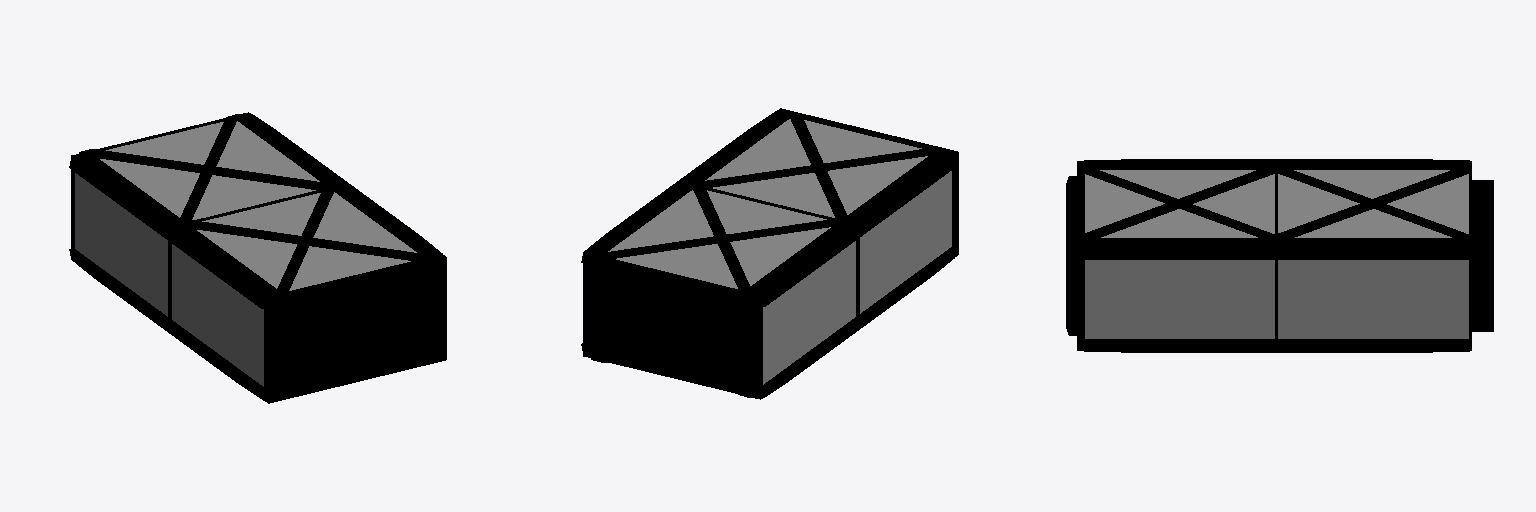
File: skyscraper_windowE_07.obj
3 views of the same model, side by side, from view 1: azimuth 30°, elevation 25°; view 2: azimuth 150°, elevation 25°; view 3: azimuth 270°, elevation 25° (orthographic).
Parts seen in each view (by area): view 1: Object01; view 2: Object01; view 3: Object01.
Part boxes in pixels (x1,y1,x2,y2): Object01: (69, 112, 446, 403); Object01: (581, 108, 958, 399); Object01: (1066, 159, 1493, 352).
Size of the model in its own units: 86.44 by 48.45 by 174.